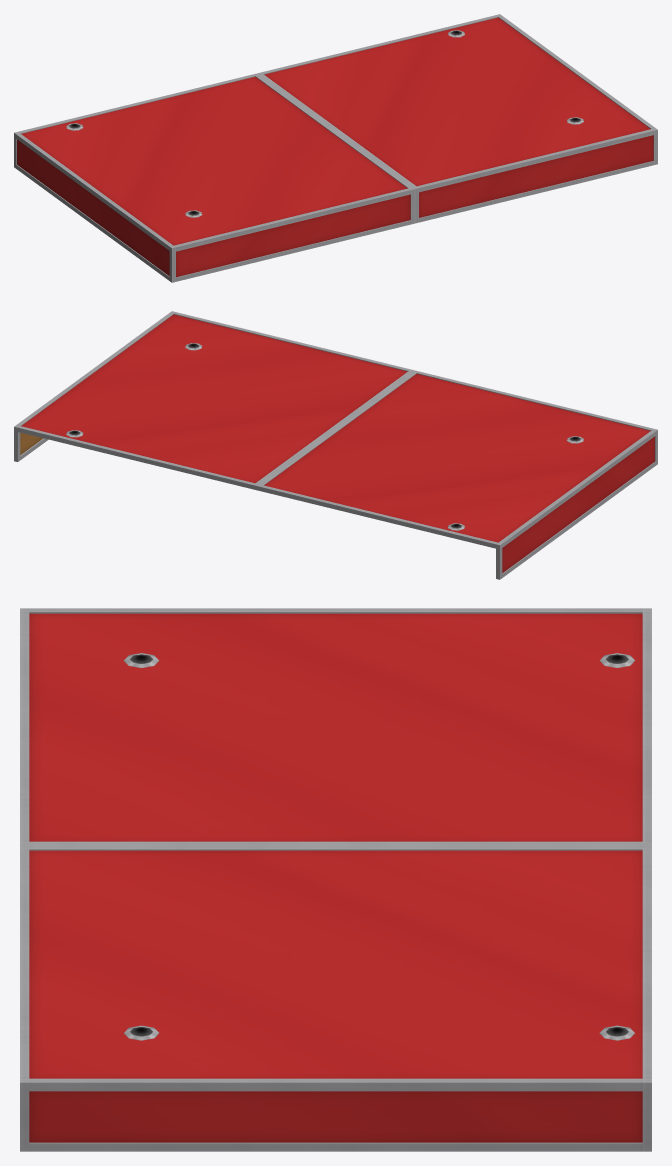
Rendered from jsf_4P_s01_c06_t01_DX.fbx.
3 renders of one model, top to bottom at view 1: azimuth 30°, elevation 25°; view 2: azimuth 150°, elevation 25°; view 3: azimuth 270°, elevation 25°, orthographic. The views are drawn at different scales.
Visible parts, largest first — view 1: jsf_4P_s01_c06_t01_DX; view 2: jsf_4P_s01_c06_t01_DX; view 3: jsf_4P_s01_c06_t01_DX.
Part boxes in pixels (x1,y1,x2,y2): jsf_4P_s01_c06_t01_DX: (14, 14, 657, 282); jsf_4P_s01_c06_t01_DX: (14, 311, 657, 579); jsf_4P_s01_c06_t01_DX: (20, 608, 651, 1151).
Bounding box in the file's own units: 184 × 12.99 × 104.
